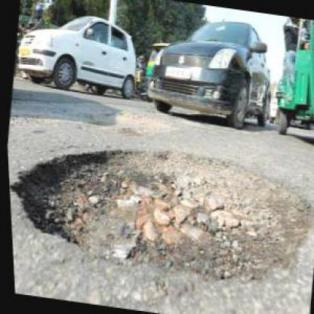Hueco: (5, 124, 313, 298), (100, 107, 171, 142)
